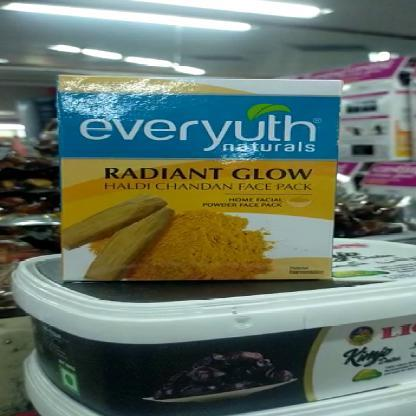EY HALDICHANDAN FP HF POWDER 25G: (60, 80, 337, 276)
